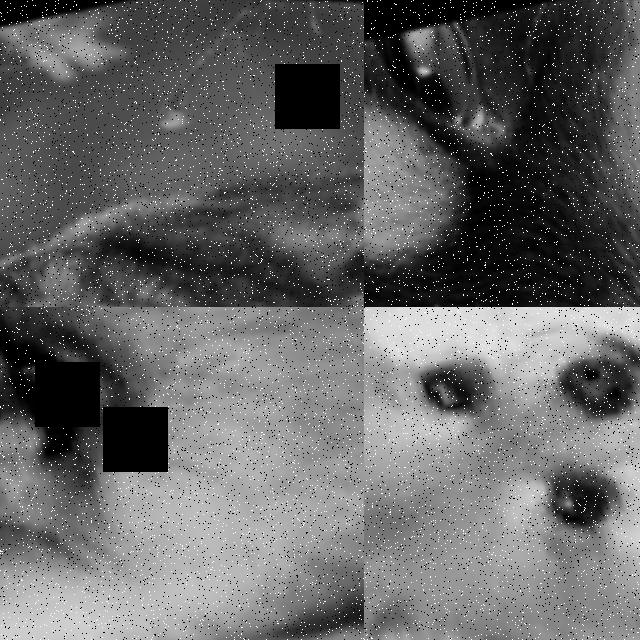dog: (0, 307, 364, 640), (364, 307, 640, 640), (364, 0, 640, 307), (0, 540, 364, 640)
wolf: (0, 84, 364, 307)
